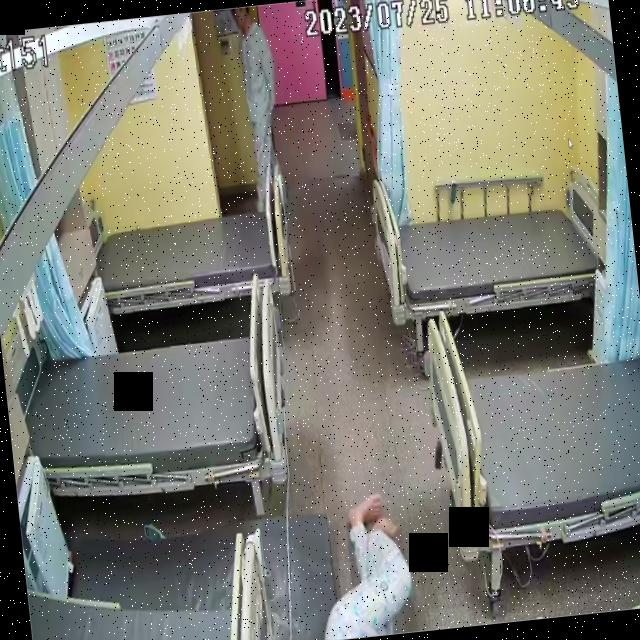bed: (420, 290, 640, 557), (16, 322, 293, 502), (370, 182, 616, 326), (93, 196, 291, 313)
fall: (309, 491, 414, 640)
move: (234, 4, 287, 199)
patient: (309, 489, 417, 640), (236, 4, 287, 199)
